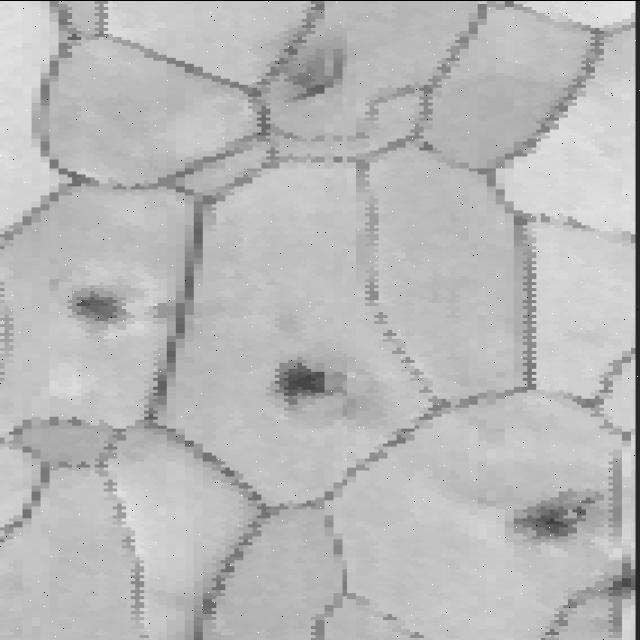good_void: (496, 477, 610, 547), (283, 28, 358, 105), (62, 273, 130, 331), (260, 361, 335, 413)
